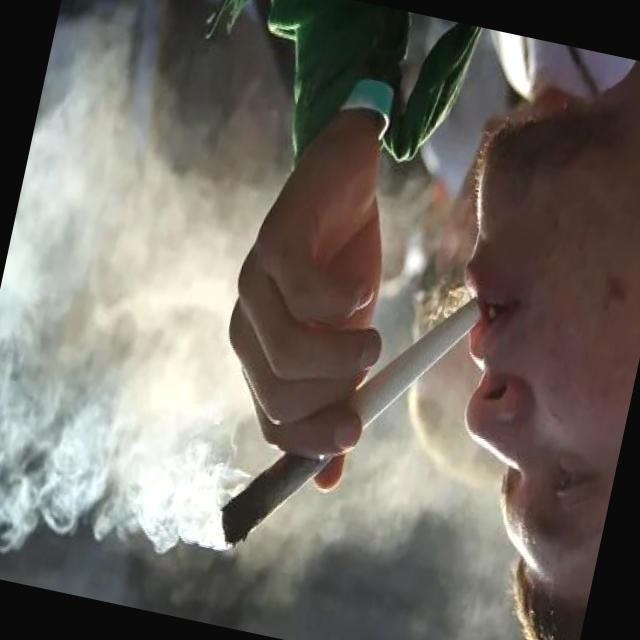cigarette: (198, 247, 485, 595)
